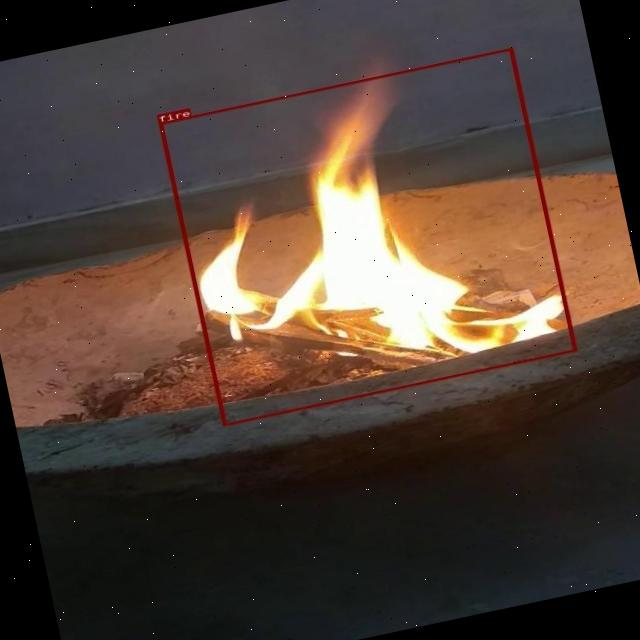fire: (158, 48, 576, 426)
